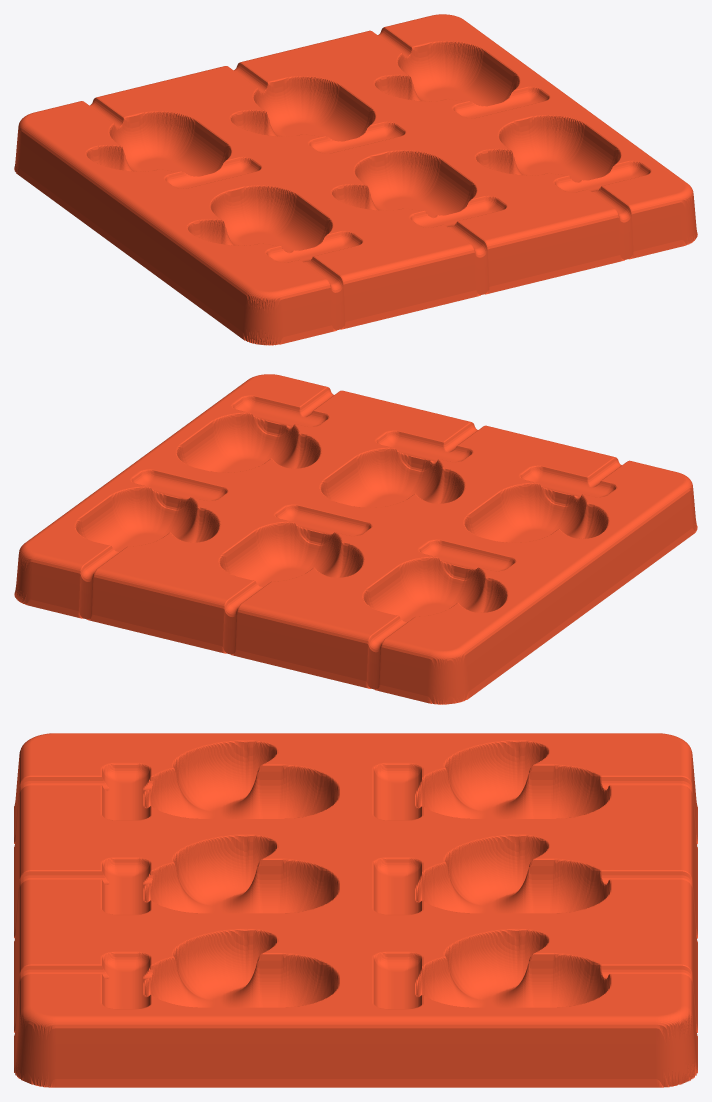
Rendered from mold.glb.
3 views of the same model, one above another, from view 1: azimuth 30°, elevation 25°; view 2: azimuth 150°, elevation 25°; view 3: azimuth 270°, elevation 25° (orthographic). The views are drawn at different scales.
Visible parts, largest first — view 1: geometry_0; view 2: geometry_0; view 3: geometry_0.
Part boxes in pixels (box(x1,y1,x2,y2)): geometry_0: box(14, 14, 697, 345); geometry_0: box(14, 374, 697, 704); geometry_0: box(14, 733, 697, 1087).
Bounding box in the file's own units: 0.1511 × 0.0155 × 0.1477.
